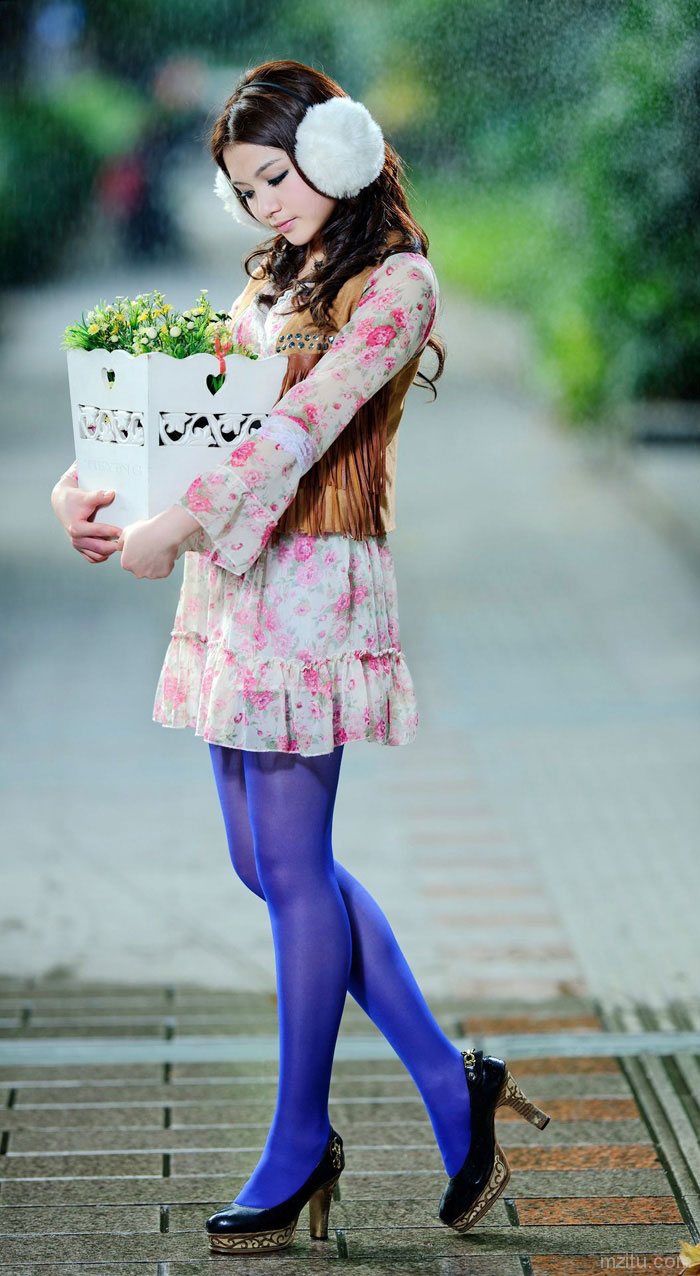women: (48, 49, 574, 1263)
